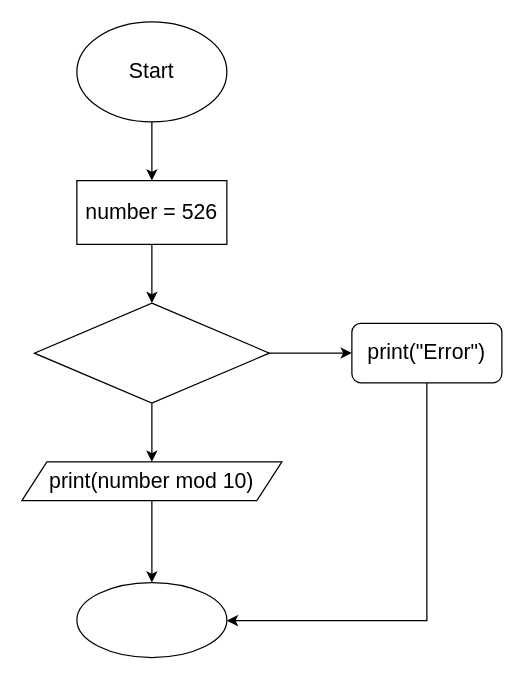
The diagram is 524 pixels wide and 680 high, and some of its shapes have lost their labels. Here are the shapes that lost their labels. From the top down, the centre of each, then its label:
the point at 151,352: 100<=number<=999
the point at 151,619: End
